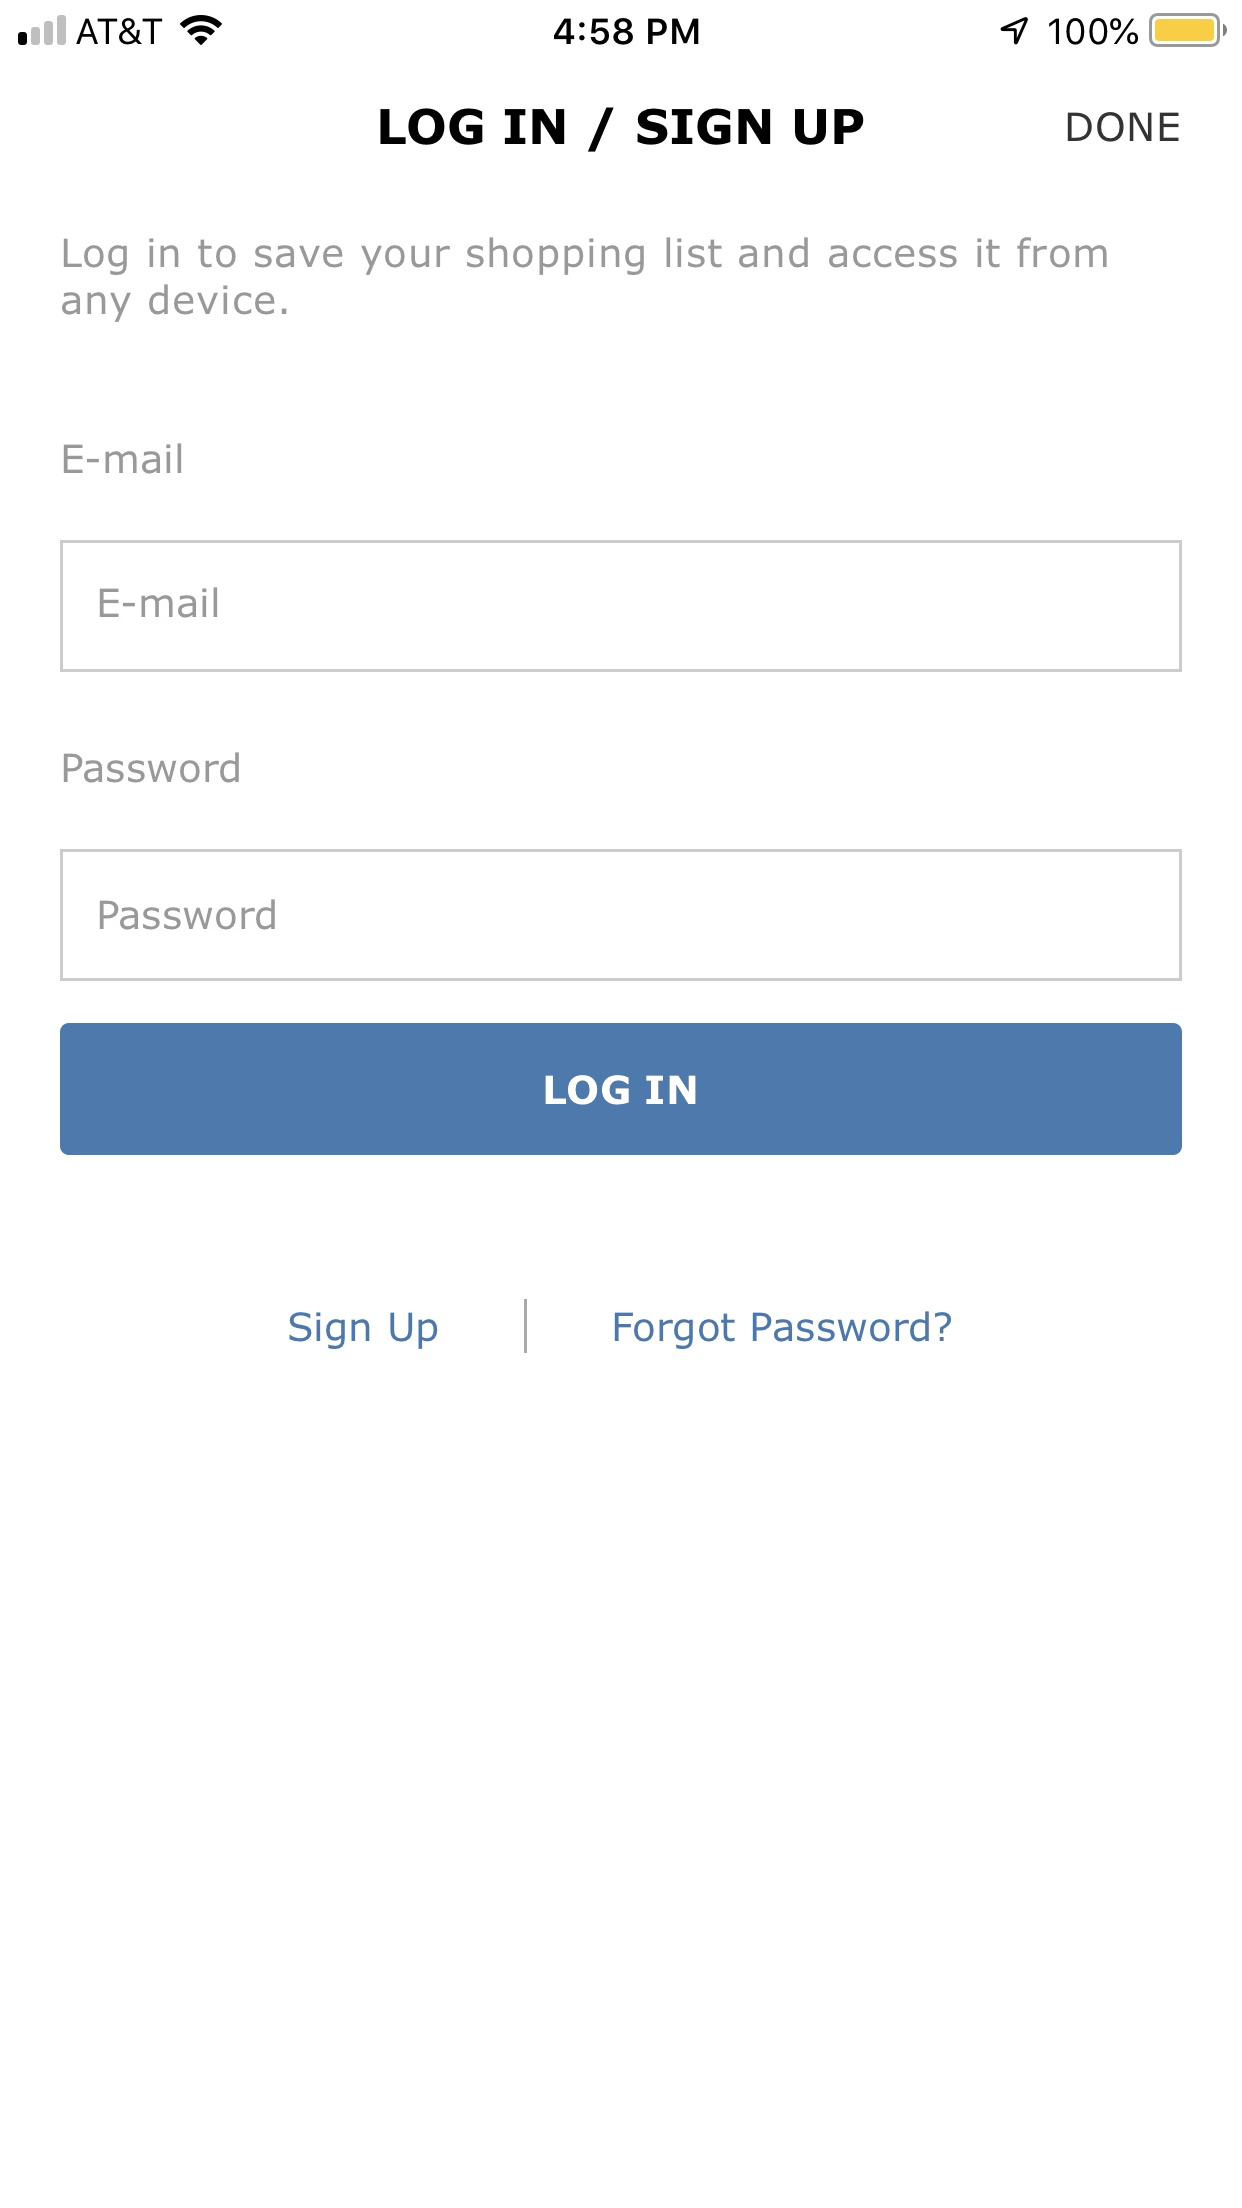EditText: (61, 851, 1181, 983), (61, 541, 1181, 673)
Text: (62, 237, 1107, 323), (381, 108, 864, 153), (614, 1310, 952, 1350), (100, 898, 278, 931), (290, 1312, 438, 1350), (64, 754, 240, 784), (64, 443, 183, 475), (100, 587, 218, 619), (1068, 112, 1178, 143)
TextButton: (61, 1024, 1181, 1156)
UpperTaskBar: (2, 2, 1242, 49)
